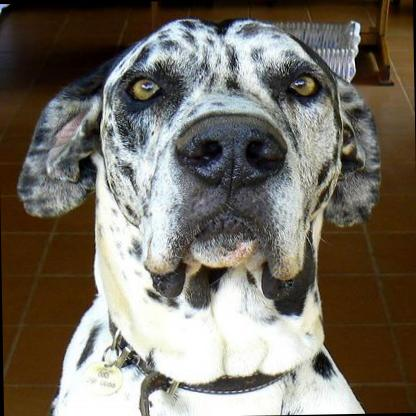Great_Dane: (10, 12, 386, 416)
